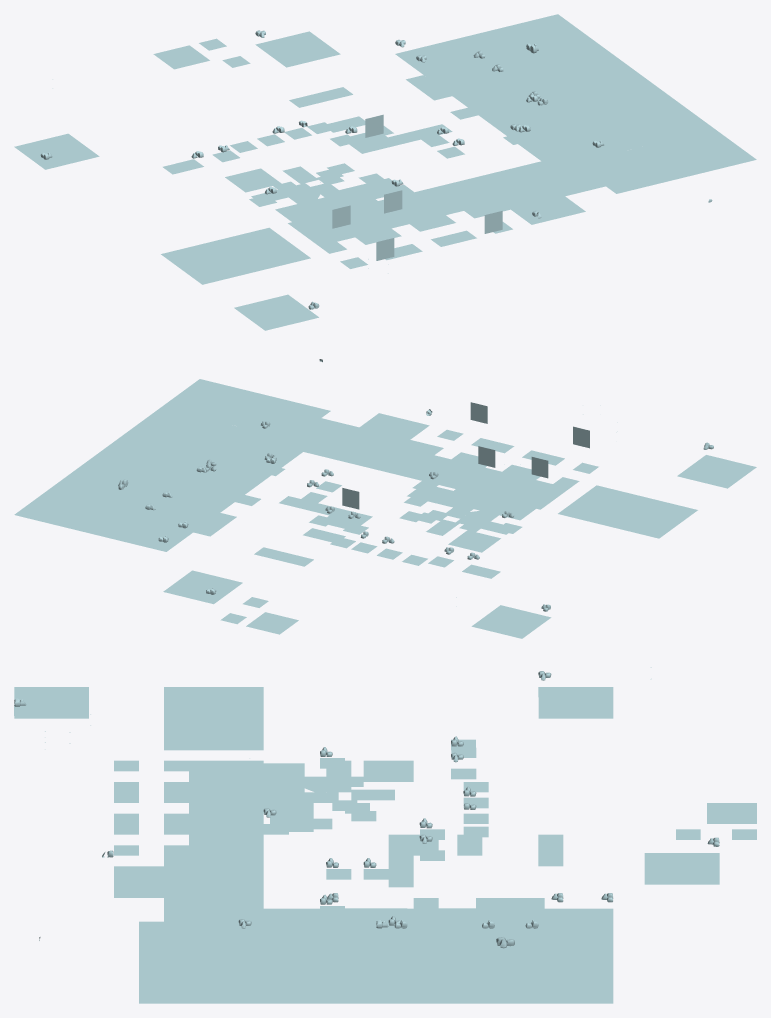
File: object_5_lev1_lev2.glb
The picture shows the model from 3 angles, top to bottom: view 1: azimuth 30°, elevation 25°; view 2: azimuth 150°, elevation 25°; view 3: azimuth 270°, elevation 25°; orthographic projection. The views are drawn at different scales.
Visible parts, largest first — view 1: object_5_lev1_lev2; view 2: object_5_lev1_lev2; view 3: object_5_lev1_lev2.
Boxes of the visible parts, x1,y1,x2,y2 form: object_5_lev1_lev2: (14, 14, 756, 330); object_5_lev1_lev2: (14, 359, 756, 638); object_5_lev1_lev2: (14, 667, 756, 1003).
Size of the model in its own units: 74.43 by 6.82 by 73.81.
